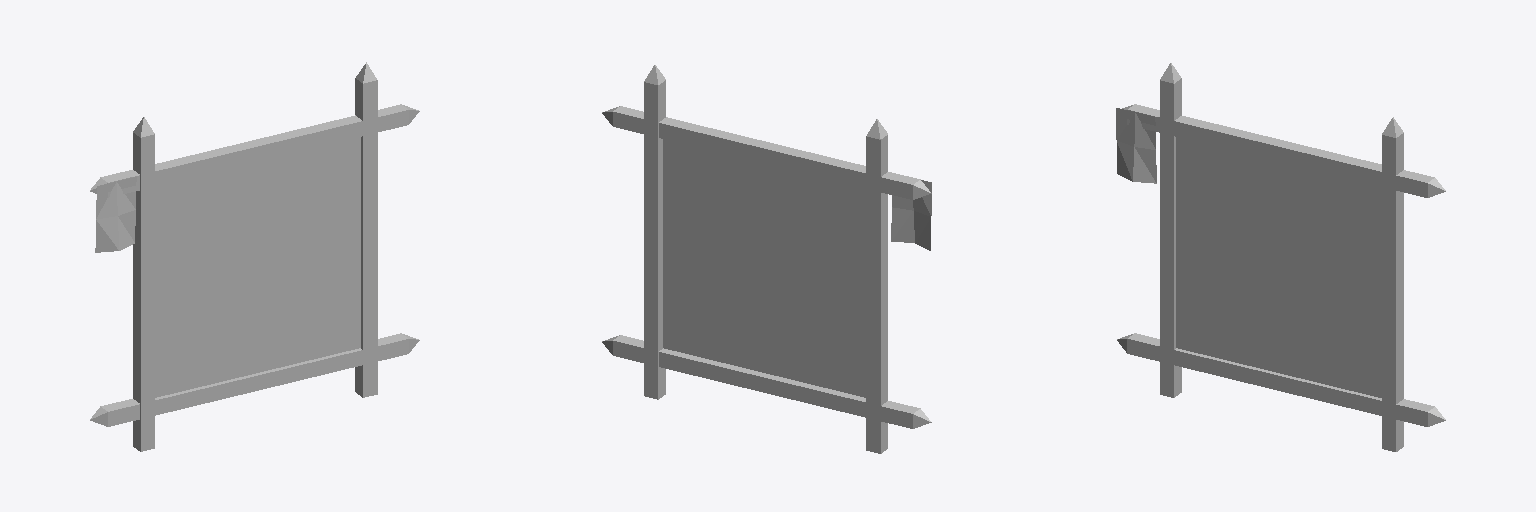
Rendered from indianvillage_tanner.obj.
The picture shows the model from 3 angles: view 1: azimuth 30°, elevation 25°; view 2: azimuth 150°, elevation 25°; view 3: azimuth 330°, elevation 25°; orthographic projection.
Parts seen in each view (by area): view 1: tanner01; view 2: tanner01; view 3: tanner01.
Boxes of the visible parts, <box> form: tanner01: <box>90,62,419,451</box>; tanner01: <box>602,65,931,453</box>; tanner01: <box>1116,63,1445,451</box>.
Size of the model in its own units: 2.73 by 2.61 by 0.1515.